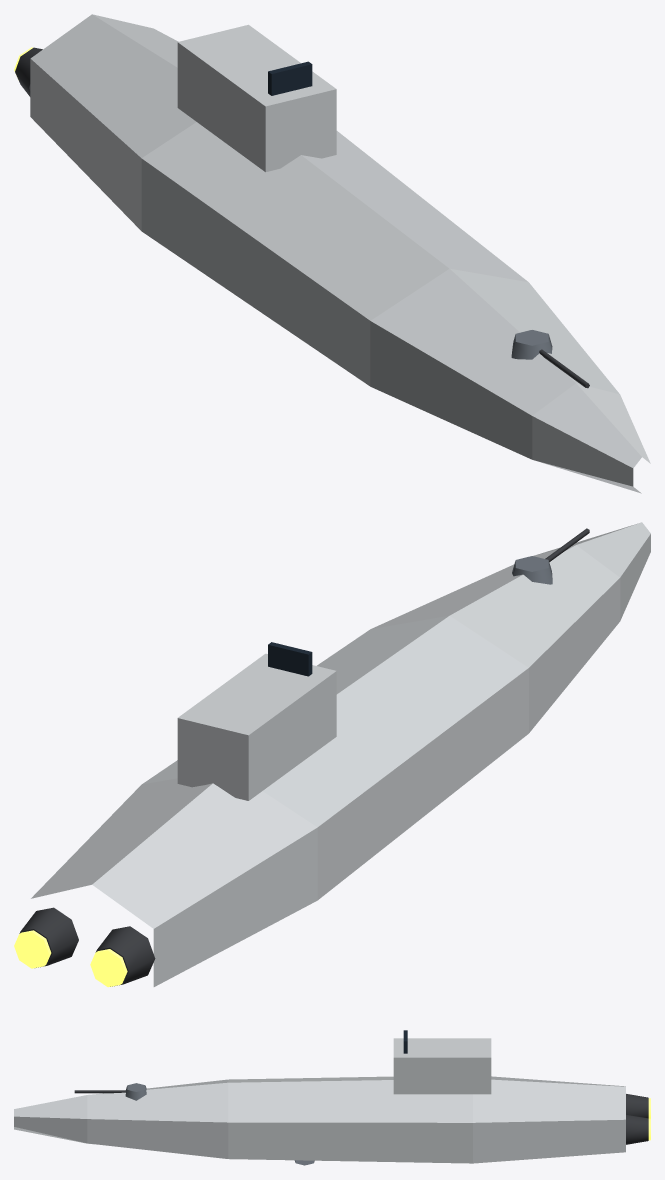
File: space_ship_frigate_mk1.glb
3 views of the same model, one above another, from view 1: azimuth 30°, elevation 25°; view 2: azimuth 150°, elevation 25°; view 3: azimuth 270°, elevation 25° (orthographic). The views are drawn at different scales.
Parts seen in each view (by area): view 1: body, turret_0; view 2: body, engine_1, engine_0, turret_0; view 3: body, engine_1, engine_0, turret_0.
Boxes of the visible parts, left/top/right/bottom form: body: left=30, top=14, right=650, bottom=493; turret_0: left=511, top=330, right=589, bottom=388; body: left=31, top=522, right=650, bottom=986; engine_1: left=14, top=907, right=78, bottom=968; engine_0: left=90, top=926, right=155, bottom=987; turret_0: left=512, top=528, right=589, bottom=584; body: left=14, top=1030, right=625, bottom=1163; engine_1: left=626, top=1114, right=650, bottom=1144; engine_0: left=626, top=1094, right=650, bottom=1118; turret_0: left=74, top=1083, right=146, bottom=1100.
Size of what is drawn, in the model's own units: 5.54 by 6.77 by 31.22.
